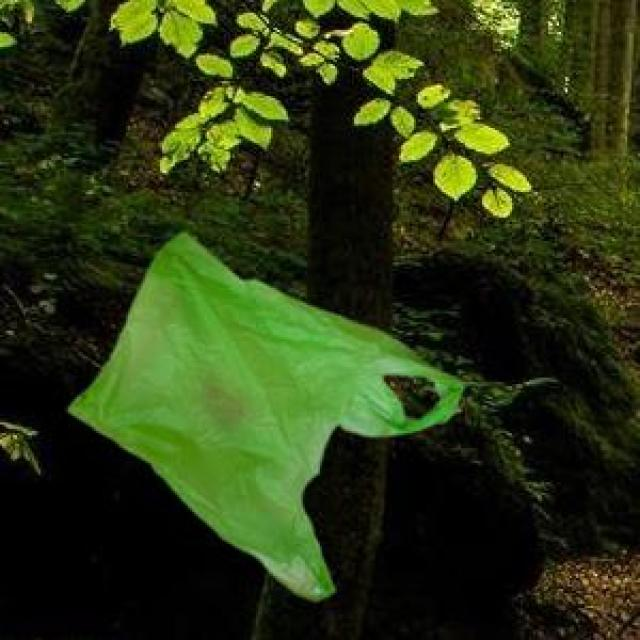plastic: (49, 201, 485, 613)
